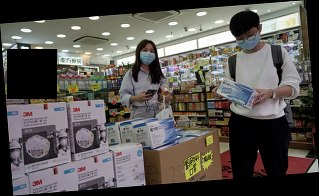with_mask: (235, 29, 261, 51), (138, 47, 157, 66)
